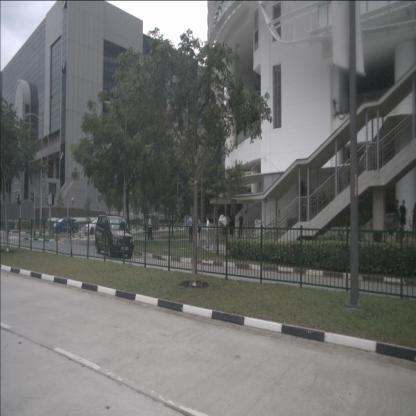human-pedestrian-adult: (399, 199, 407, 238), (228, 215, 235, 250), (186, 214, 194, 243), (395, 199, 402, 232), (411, 202, 416, 239), (147, 214, 154, 240), (238, 211, 244, 239), (205, 216, 210, 249), (197, 215, 201, 243), (244, 210, 248, 238), (223, 213, 226, 240)
vehicle-car: (95, 214, 134, 259), (83, 218, 111, 235), (52, 218, 79, 234)
